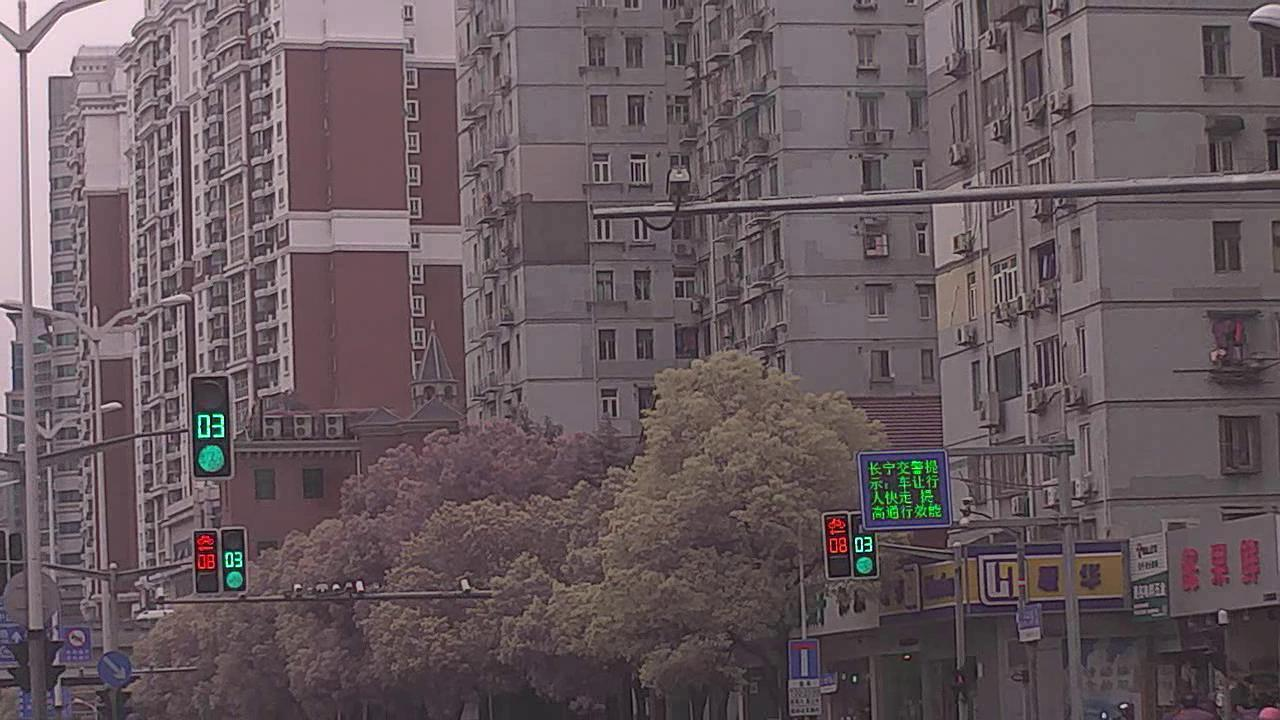traffic_light: (188, 373, 235, 475), (218, 528, 250, 593), (189, 528, 219, 597), (825, 511, 853, 579), (855, 512, 877, 582)
